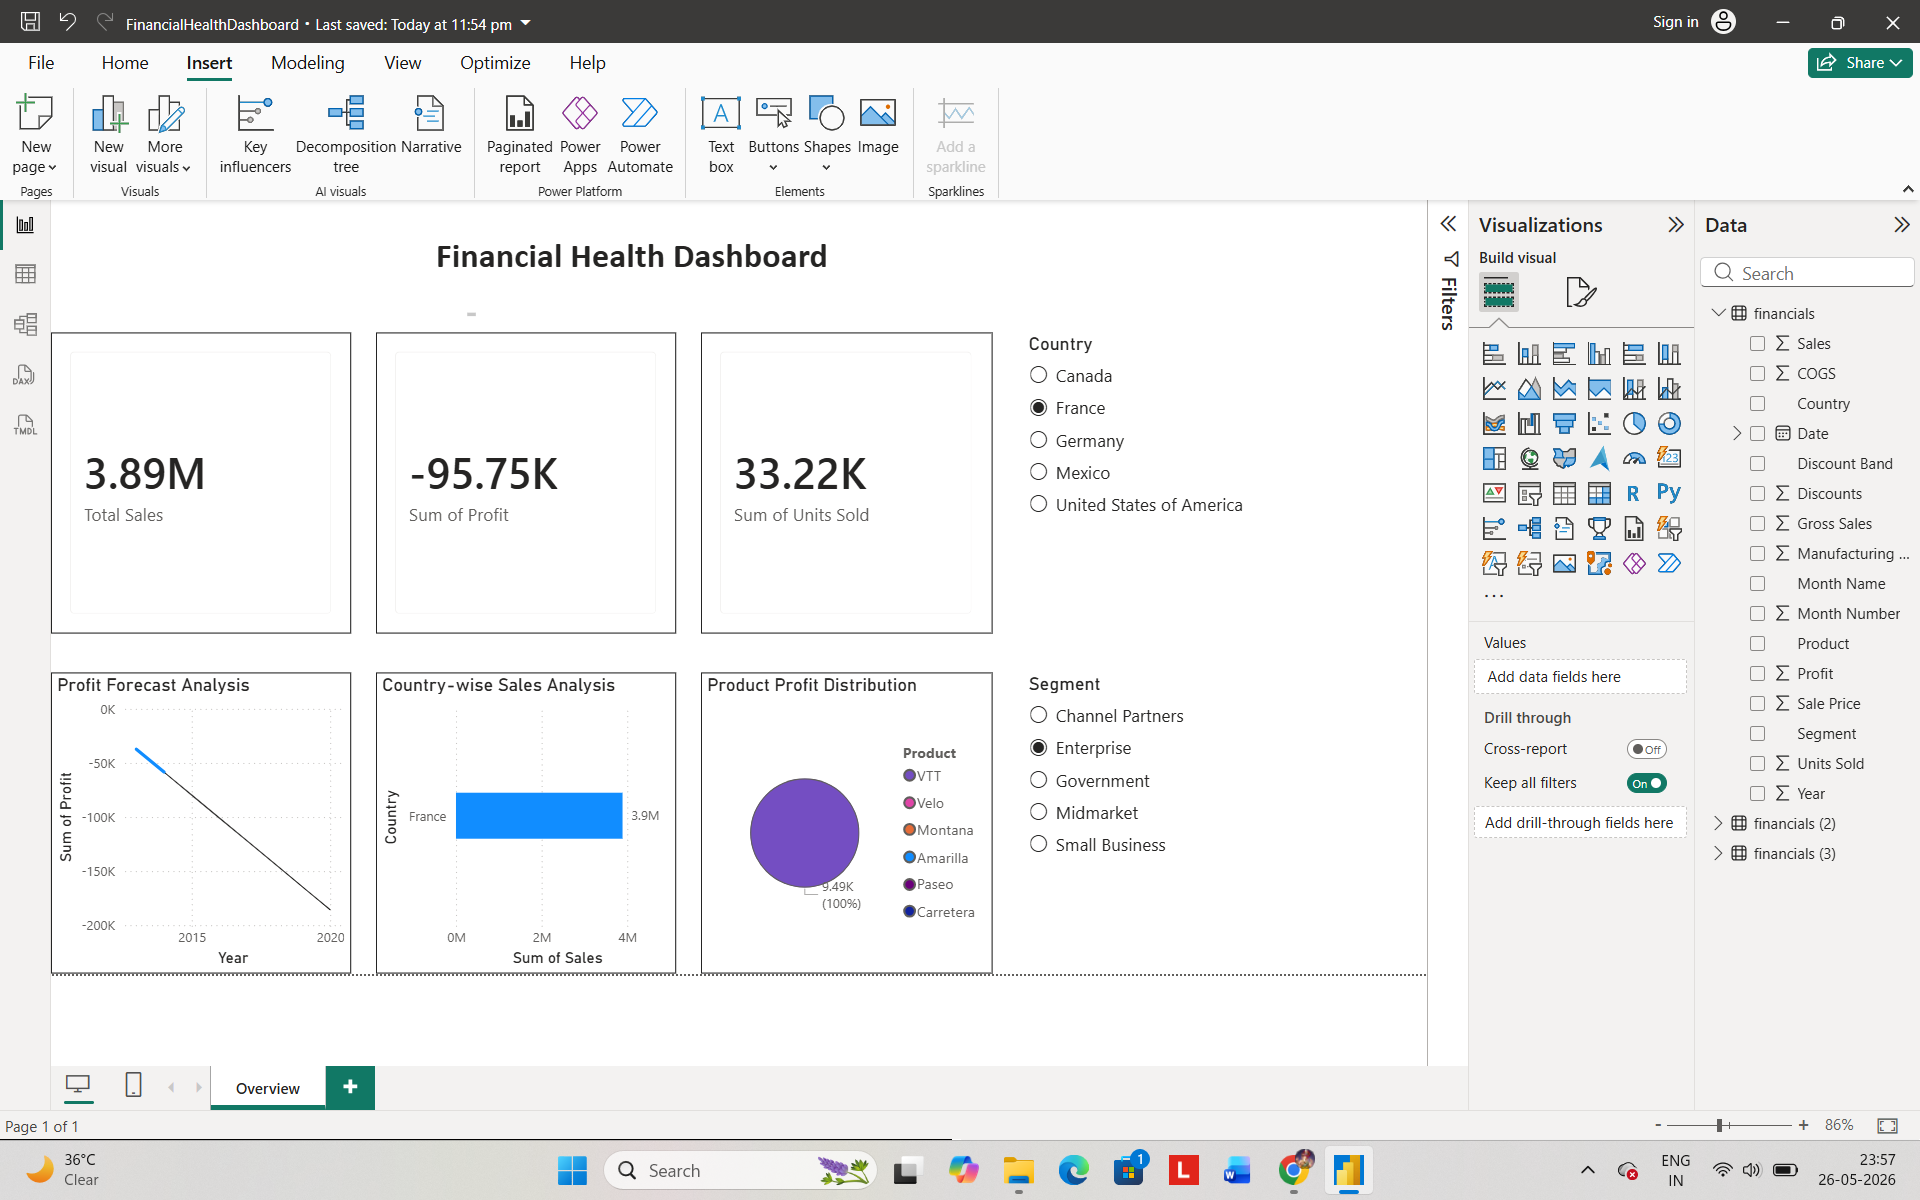

Layout of this report page (visuals, bound fields, positions):
{"tool":"powerbi","page":{"name":"Overview","canvas":[1280,720],"ordinal":0},"visuals":[{"type":"cardVisual","fields":{"Data":["Sum(financials. Sales)","Sum(financials. Sales)"]},"box":[0,123.3,279.1,280.2],"z":0},{"type":"cardVisual","fields":{"Data":["Sum(financials.Profit)"]},"box":[302.3,123.3,279.1,280.2],"z":1000},{"type":"cardVisual","fields":{"Data":["Sum(financials.Units Sold)"]},"box":[604.7,123.3,270.9,280.2],"z":2000},{"type":"lineChart","title":"Profit Forecast Analysis","fields":{"Category":["financials.Date.Variation.Date Hierarchy.Year","financials.Date.Variation.Date Hierarchy.Quarter","financials.Date.Variation.Date Hierarchy.Month","financials.Date.Variation.Date Hierarchy.Day"],"Y":["Sum(financials.Profit)"]},"box":[0,439.5,279.1,280.2],"z":3000},{"type":"clusteredBarChart","title":"Country-wise Sales Analysis","fields":{"Category":["financials.Country"],"Y":["Sum(financials. Sales)"]},"box":[302.3,439.5,279.1,280.2],"z":4000},{"type":"pieChart","title":"Product Profit Distribution","fields":{"Category":["financials.Product"],"Y":["Sum(financials.Profit)"]},"box":[604.7,439.5,270.9,280.2],"z":4001},{"type":"listSlicer","fields":{"Values":["financials.Country"]},"box":[904.7,123.3,270.9,280.2],"z":4002},{"type":"listSlicer","fields":{"Values":["financials.Segment"]},"box":[904.7,439.5,270.9,280.2],"z":4003},{"type":"textbox","box":[100,100,300,12.8],"z":4004},{"type":"textbox","box":[100,26.7,864,64],"z":4005}]}

Visuals, with their boxes on the page's 1280x720 design canvas (x1, y1, x2, y2). These are canvas units, not pixel positions in the 1920x1200 screenshot, which may show the page scaled, cropped or inside an application window:
cardVisual - Sum(financials. Sales) x Sum(financials. Sales): <box>0,123,279,404</box>
cardVisual - Sum(financials.Profit): <box>302,123,581,404</box>
cardVisual - Sum(financials.Units Sold): <box>605,123,876,404</box>
"Profit Forecast Analysis" lineChart: <box>0,440,279,720</box>
"Country-wise Sales Analysis" clusteredBarChart: <box>302,440,581,720</box>
"Product Profit Distribution" pieChart: <box>605,440,876,720</box>
listSlicer - financials.Country: <box>905,123,1176,404</box>
listSlicer - financials.Segment: <box>905,440,1176,720</box>
textbox: <box>100,100,400,113</box>
textbox: <box>100,27,964,91</box>
